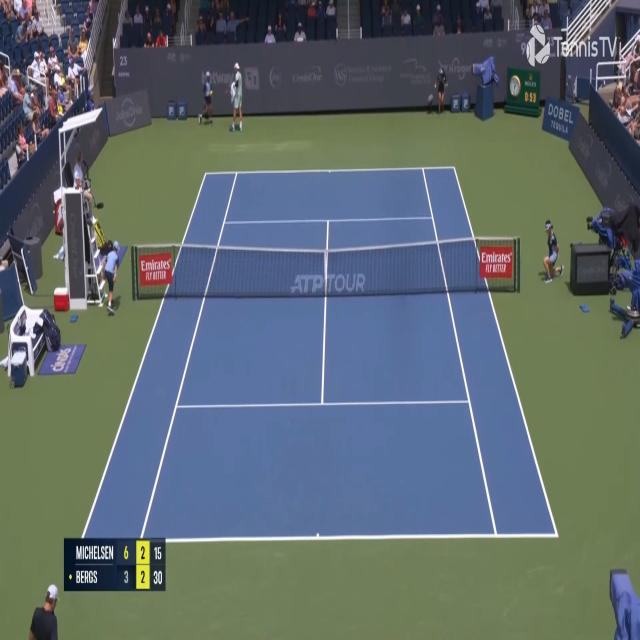tennis-player: (19, 580, 66, 640), (229, 61, 244, 133)
